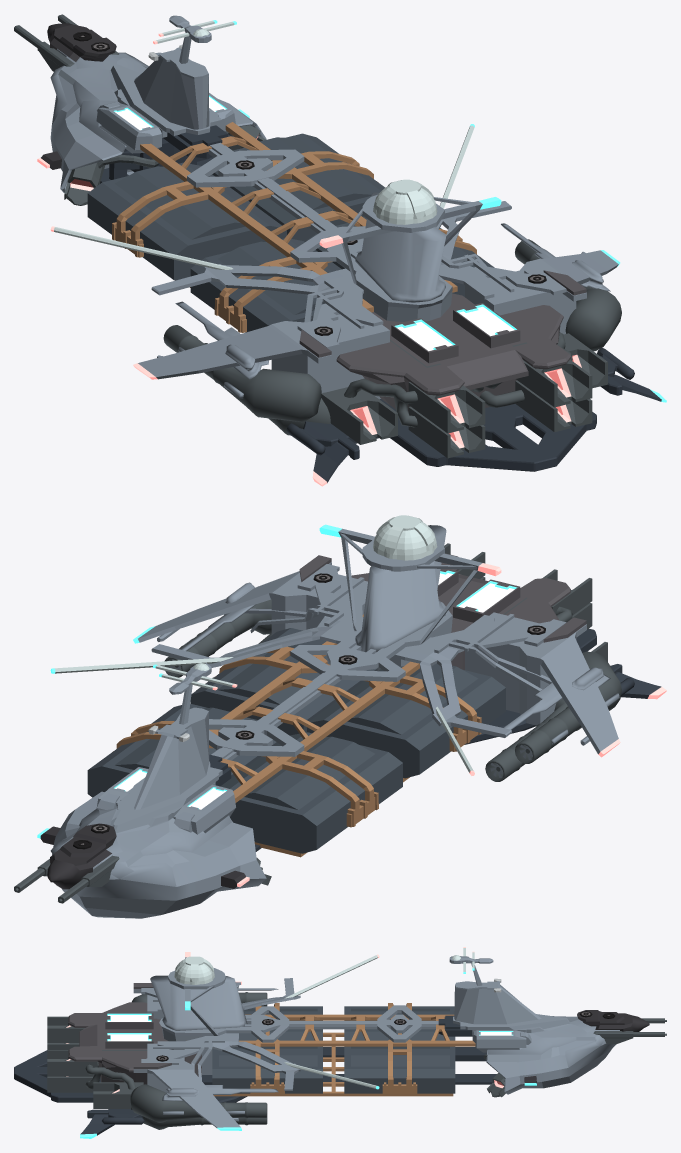
File: Cargo_Capital_LODGroup.fbx
The picture shows the model from 3 angles, top to bottom: view 1: azimuth 30°, elevation 25°; view 2: azimuth 150°, elevation 25°; view 3: azimuth 270°, elevation 25°; orthographic projection. The views are drawn at different scales.
Parts seen in each view (by area): view 1: Cargo Capital_LOD0; view 2: Cargo Capital_LOD0; view 3: Cargo Capital_LOD0.
Part boxes in pixels (bbox=[...]): Cargo Capital_LOD0: bbox=[14, 14, 666, 486]; Cargo Capital_LOD0: bbox=[14, 515, 666, 918]; Cargo Capital_LOD0: bbox=[14, 947, 666, 1138].
Size of what is drawn, in the model's own units: 9.05 by 3.72 by 16.93.
